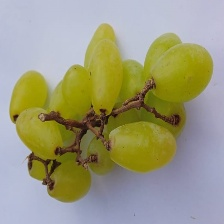grapes: (19, 53, 195, 200)
